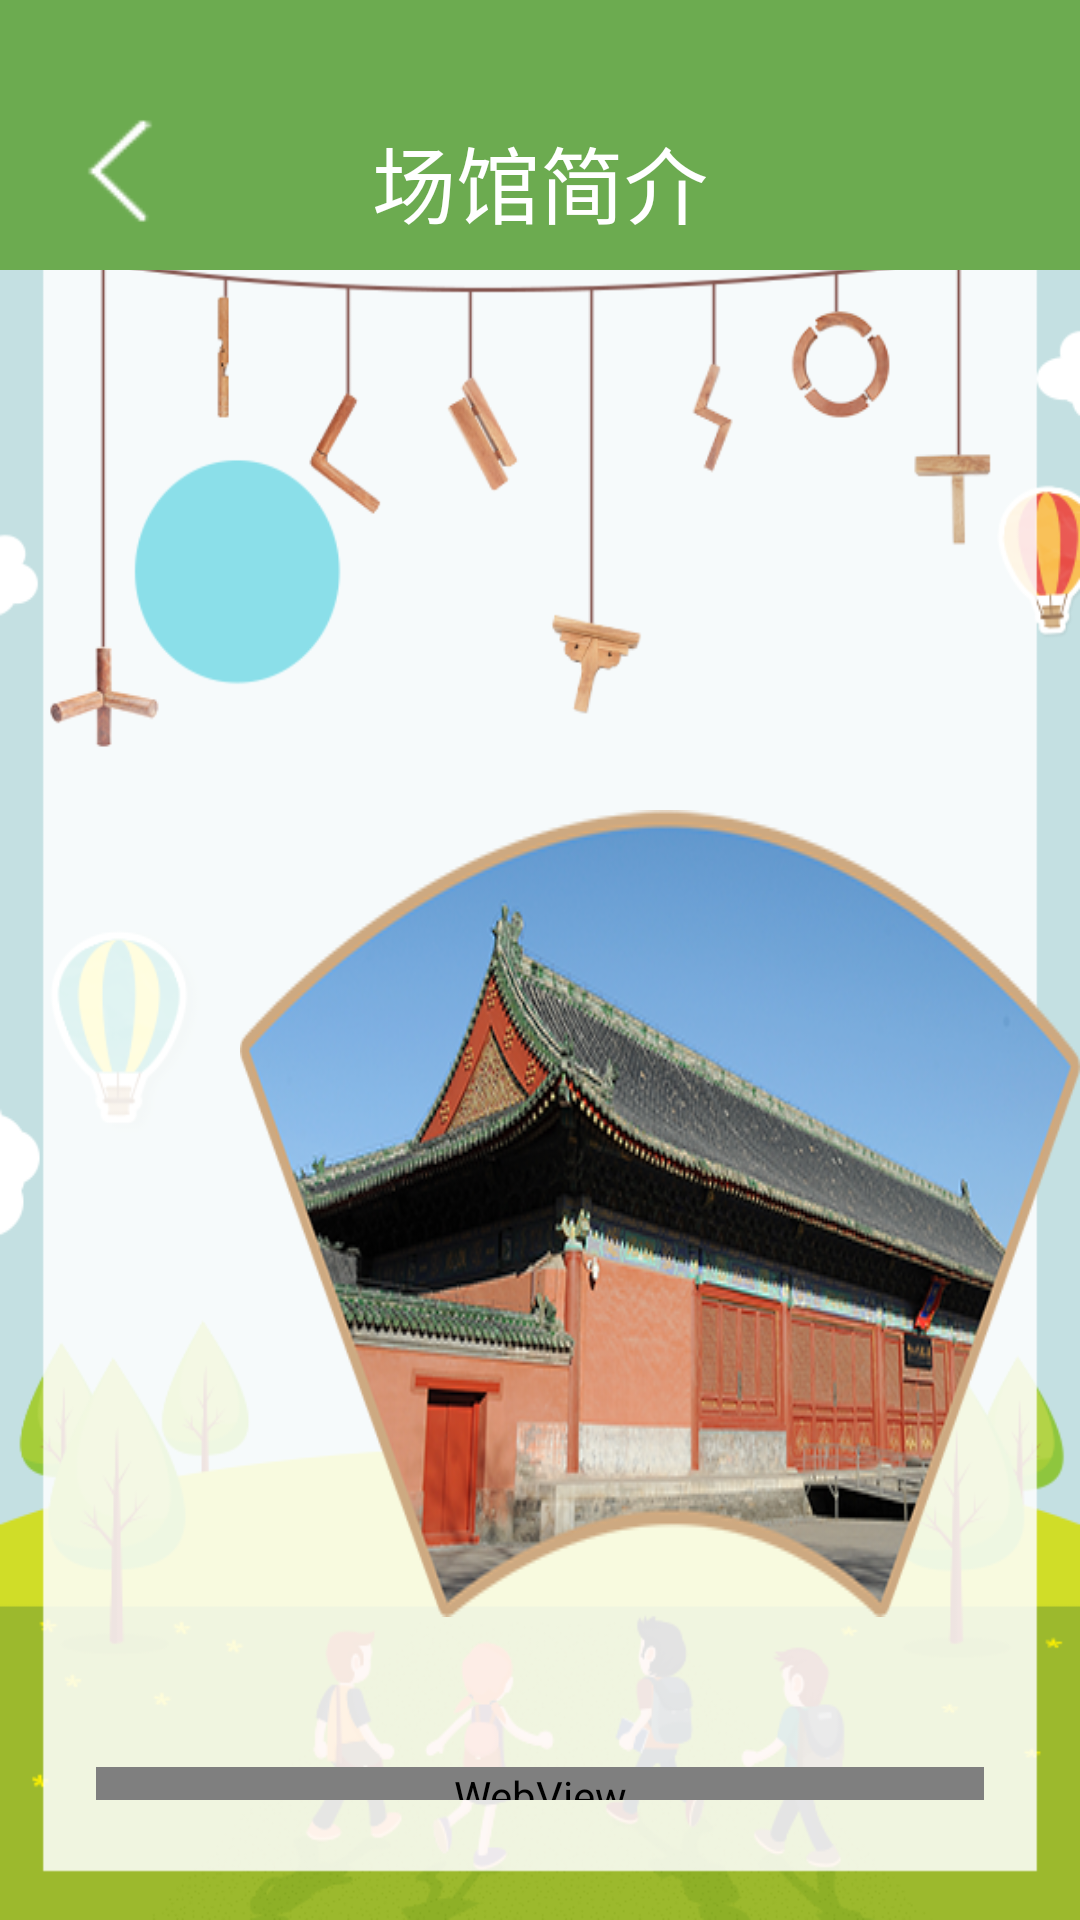

Icons on this 1080x1920 Android screen, each with its box as (x1=x1, y1=y1, x2=x2, y2=y2):
dao back: (x1=88, y1=120, x2=152, y2=222)
